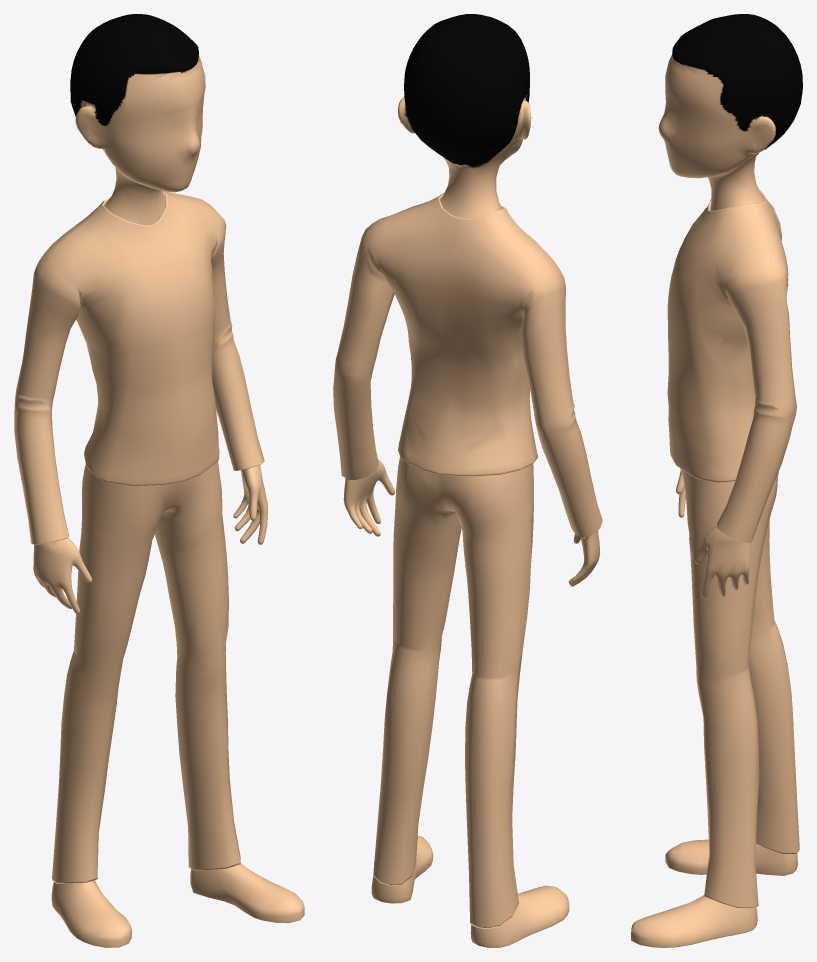
3 views of the same model, side by side, from view 1: azimuth 30°, elevation 25°; view 2: azimuth 150°, elevation 25°; view 3: azimuth 270°, elevation 25° (orthographic). The views are drawn at different scales.
Parts seen in each view (by area): view 1: mesh_id27; view 2: mesh_id27; view 3: mesh_id27.
Part boxes in pixels (bbox=[...]): mesh_id27: bbox=[14, 14, 304, 947]; mesh_id27: bbox=[333, 14, 602, 947]; mesh_id27: bbox=[631, 14, 802, 947].
Size of the model in its own units: 0.0871 by 0.3052 by 0.0548.
1 material, 1 textured.
